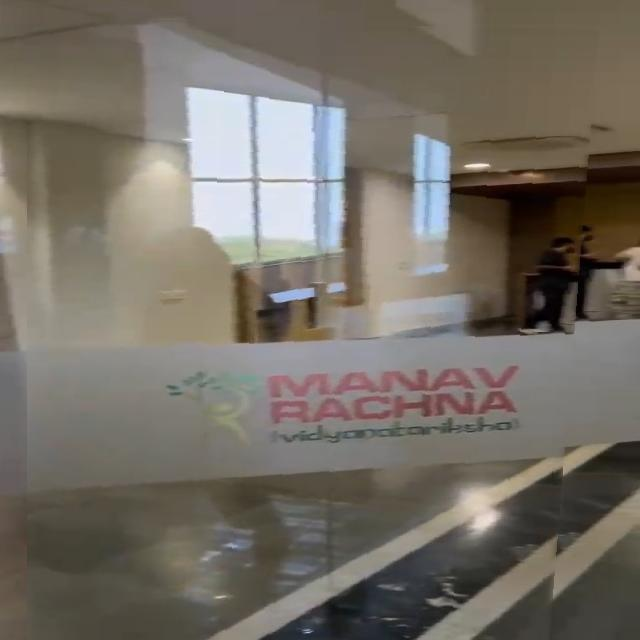door: (27, 17, 599, 640)
